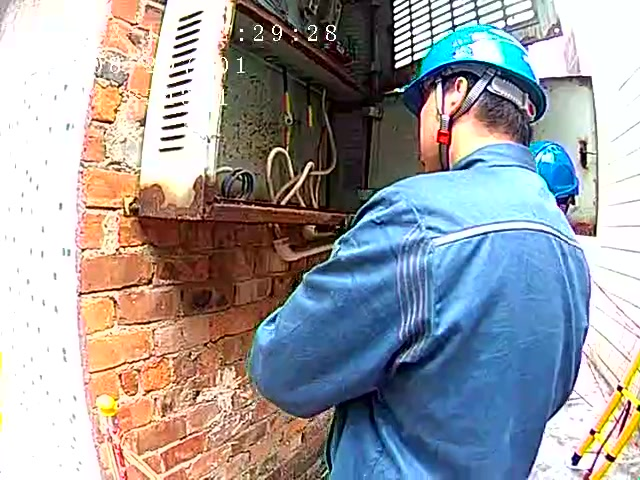halt: (405, 37, 549, 163), (532, 143, 583, 204)
inear: (439, 70, 483, 131)
